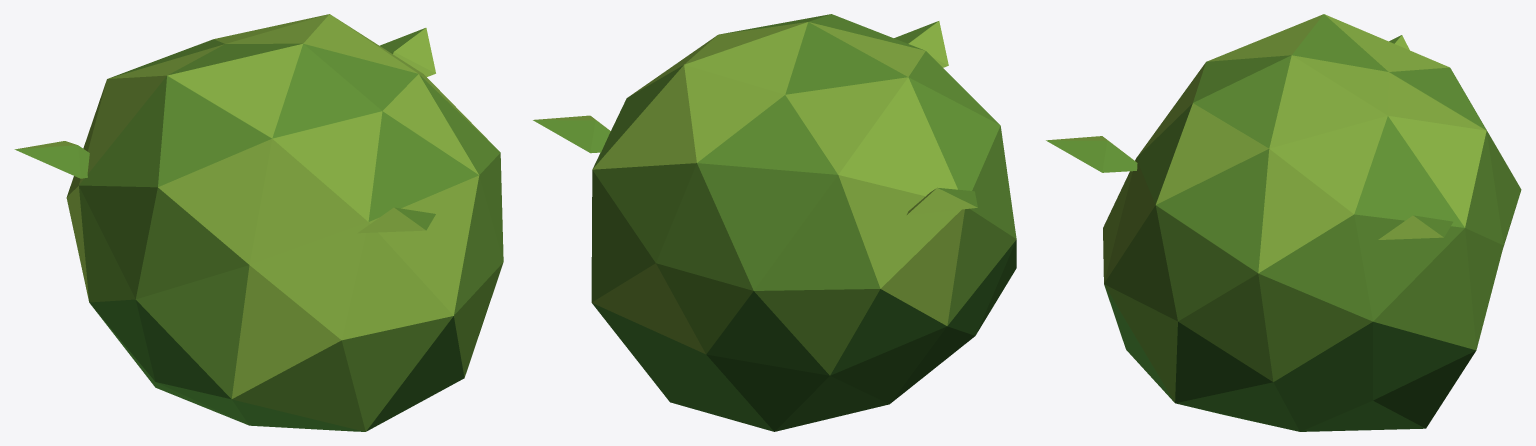
File: sunberry_growing.glb
3 renders of one model, left to right at view 1: azimuth 30°, elevation 25°; view 2: azimuth 150°, elevation 25°; view 3: azimuth 270°, elevation 25°, orthographic. The views are drawn at different scales.
Visible parts, largest first — view 1: sunberry_growing; view 2: sunberry_growing; view 3: sunberry_growing.
Part boxes in pixels (x1,y1,x2,y2): sunberry_growing: (14,14,503,431); sunberry_growing: (533,14,1016,431); sunberry_growing: (1046,14,1521,431).
Bounding box in the file's own units: 0.3074 × 0.2454 × 0.3049.
